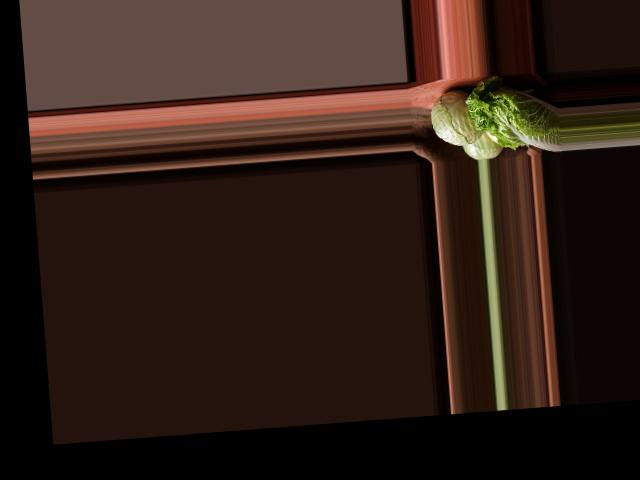lettuce: (464, 69, 560, 155)
